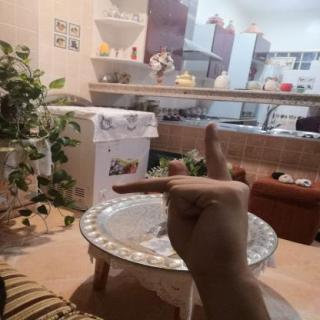DHAA: (102, 114, 261, 285)
